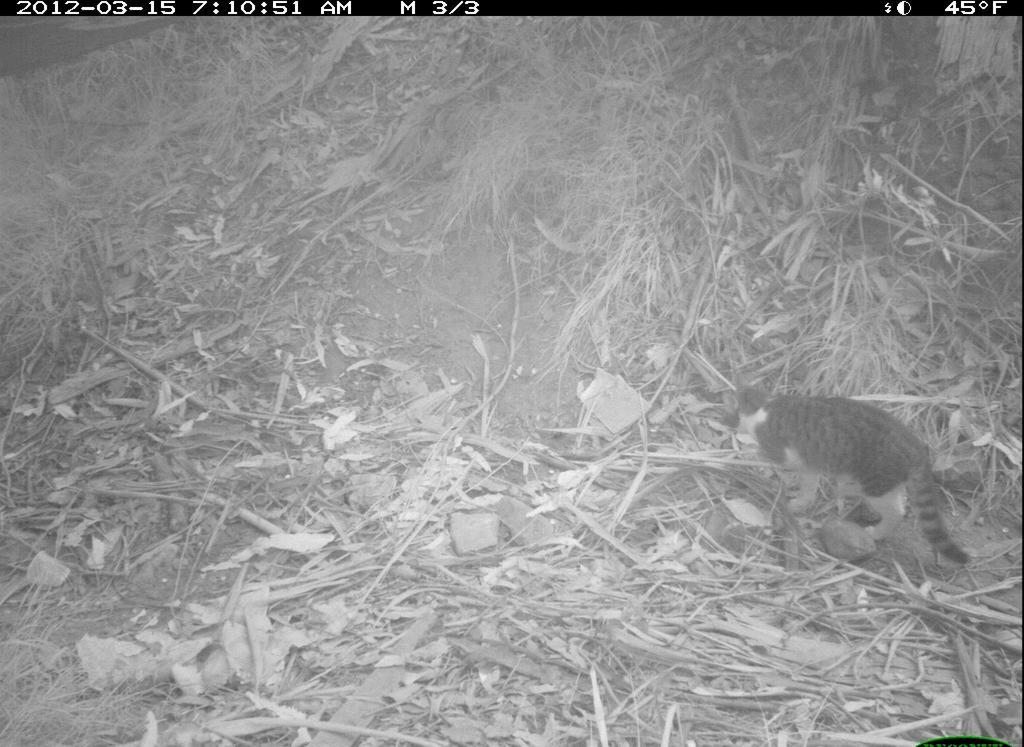cat: (701, 374, 977, 571)
